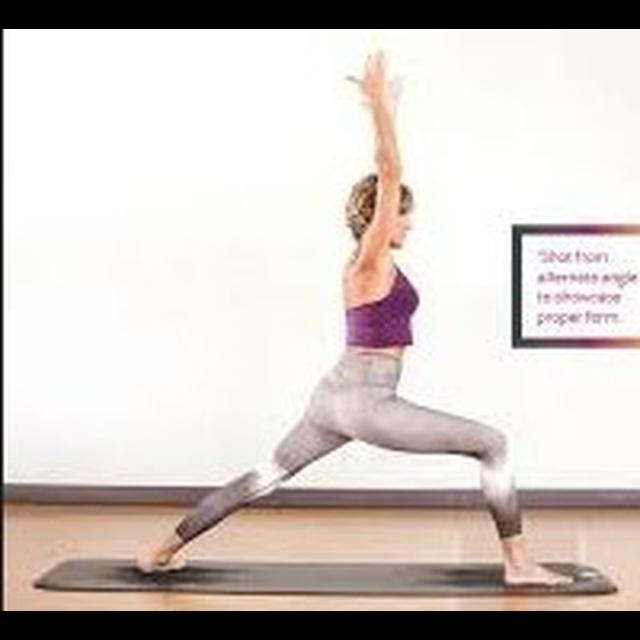Warrior_I: (131, 47, 577, 591)
